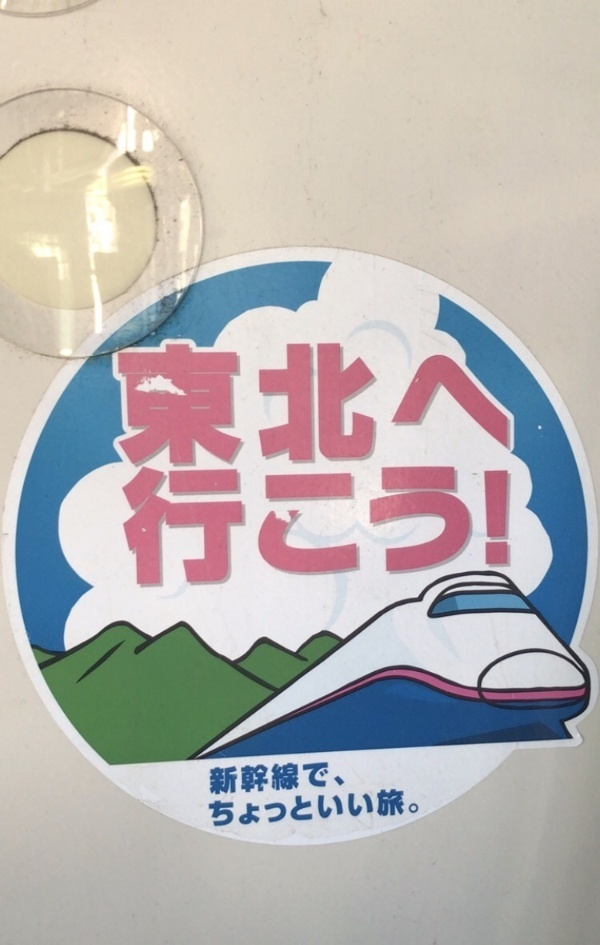text: (129, 344, 144, 477), (145, 344, 160, 477), (161, 344, 176, 477), (177, 344, 192, 477), (193, 344, 208, 477), (209, 344, 224, 477), (225, 344, 240, 477), (241, 344, 256, 477), (257, 344, 272, 477), (273, 344, 288, 477), (289, 344, 304, 477), (305, 344, 320, 477), (321, 344, 336, 477), (337, 344, 352, 477), (353, 344, 368, 477), (497, 469, 513, 593), (129, 469, 144, 593), (145, 469, 160, 593), (161, 469, 176, 593), (177, 469, 192, 593), (193, 469, 208, 593), (209, 469, 224, 593), (225, 469, 240, 593), (241, 469, 256, 593), (257, 469, 272, 593), (273, 469, 288, 593), (289, 469, 304, 593), (305, 469, 320, 593), (321, 469, 336, 593), (337, 469, 352, 593), (353, 469, 368, 593), (369, 469, 384, 593), (385, 469, 400, 593), (401, 469, 416, 593), (417, 469, 432, 593), (433, 469, 448, 593), (449, 469, 464, 593), (465, 469, 480, 593), (481, 469, 496, 593), (116, 344, 128, 477), (369, 344, 377, 477), (209, 788, 224, 829), (225, 788, 240, 829), (241, 788, 256, 829), (257, 788, 272, 829), (273, 788, 288, 829), (289, 788, 304, 829), (305, 788, 320, 829), (321, 788, 336, 829), (337, 788, 352, 829), (353, 788, 368, 829), (369, 788, 384, 829), (385, 788, 400, 829), (401, 788, 416, 829), (225, 763, 240, 797), (241, 763, 256, 797), (257, 763, 272, 797), (273, 763, 288, 797), (289, 763, 304, 797), (305, 763, 320, 797), (321, 763, 336, 797), (124, 469, 128, 593), (211, 763, 224, 797), (337, 763, 347, 797), (417, 788, 420, 829)
